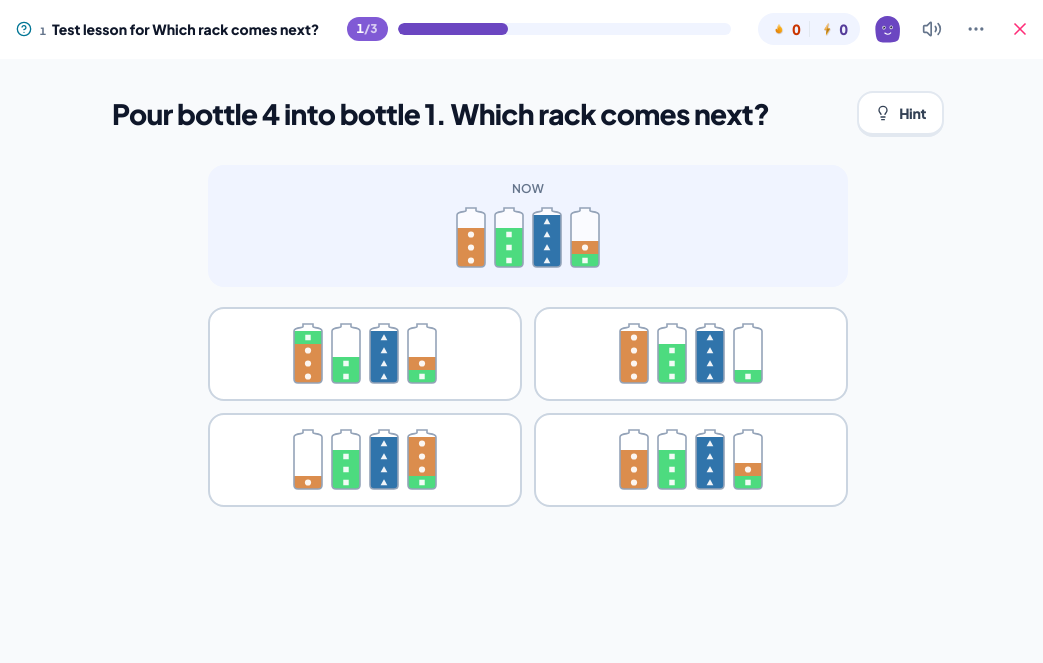
Test: choosing the rack a pour makes › records a wrong pick as wrong, and keeps the question
Click the button named "Choice 1. bottle 1: circle 1, circle 1, circle 1, square 2;" at (365, 354), box [208,307,522,401]
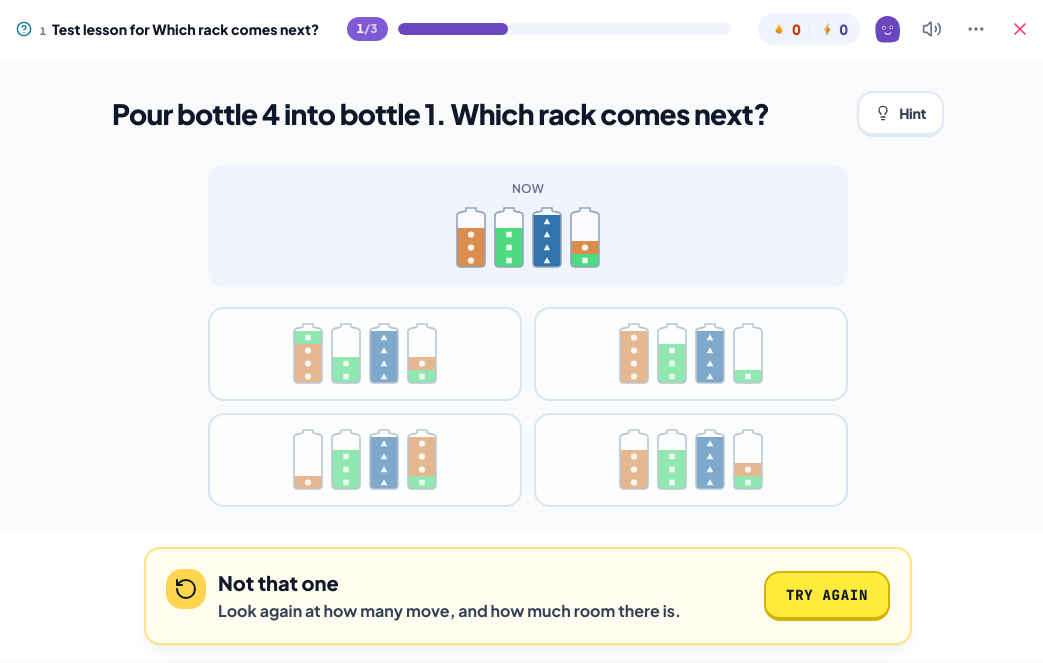
Check: the text "Not that one" is shown, box [218,569,339,597]
